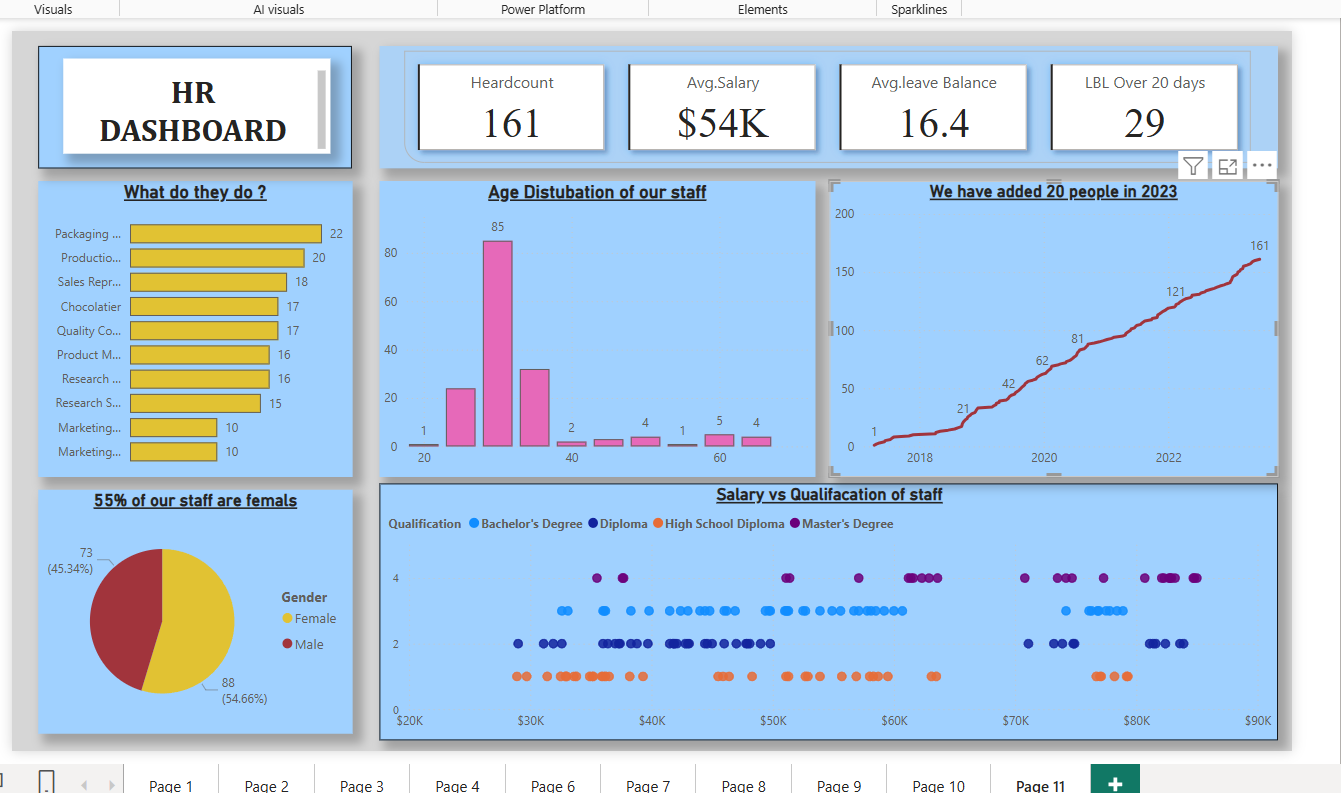

This screenshot's page, from the dashboard's own definition file:
{"tool":"powerbi","page":{"name":"Page 11","canvas":[1280,720],"ordinal":9},"visuals":[{"type":"cardVisual","fields":{"Data":["Staff.Heardcount","Staff.Avg.Salary","Staff.Avg.leave Balance","Staff.LBL Over 20 days"]},"box":[367.5,15,898.8,122.5],"z":0},{"type":"clusteredBarChart","title":"What do they do ?","fields":{"Y":["Staff.Heardcount"],"Category":["Staff.Job Title"]},"box":[25.7,150,314.3,295.7],"z":1000},{"type":"pieChart","title":"55% of our staff are femals","fields":{"Category":["Staff.Gender"],"Y":["Staff.Heardcount"]},"box":[25.7,458.6,314.3,244.3],"z":2000},{"type":"columnChart","title":"Age Distubation of our staff","fields":{"Category":["Staff.Age (bins)"],"Y":["Staff.Heardcount"]},"box":[367.1,150,435.7,295.7],"z":3000},{"type":"scatterChart","title":"Salary vs Qualifacation of staff","fields":{"X":["Staff.Salary"],"Series":["Staff.Education Qualification"],"Y":["Quari.Custom"]},"box":[367.1,452.9,898.6,257.1],"z":4000},{"type":"lineChart","title":"We have added 20 people in 2023","fields":{"Category":["Staff.Date of Join"],"Y":["Staff.Cumulative Headcount"]},"box":[817.1,150,448.6,295.7],"z":5000},{"type":"textbox","box":[26,15,313.8,122.5],"z":6000},{"type":"textbox","box":[51.2,27.5,267.5,95],"z":7000}]}

Visuals, with their boxes on the page's 1280x720 design canvas (x1, y1, x2, y2). These are canvas units, not pixel positions in the 1341x793 screenshot, which may show the page scaled, cropped or inside an application window:
cardVisual - Staff.Heardcount x Staff.Avg.Salary: box=[368, 15, 1266, 138]
"What do they do ?" clusteredBarChart: box=[26, 150, 340, 446]
"55% of our staff are femals" pieChart: box=[26, 459, 340, 703]
"Age Distubation of our staff" columnChart: box=[367, 150, 803, 446]
"Salary vs Qualifacation of staff" scatterChart: box=[367, 453, 1266, 710]
"We have added 20 people in 2023" lineChart: box=[817, 150, 1266, 446]
textbox: box=[26, 15, 340, 138]
textbox: box=[51, 28, 319, 122]
